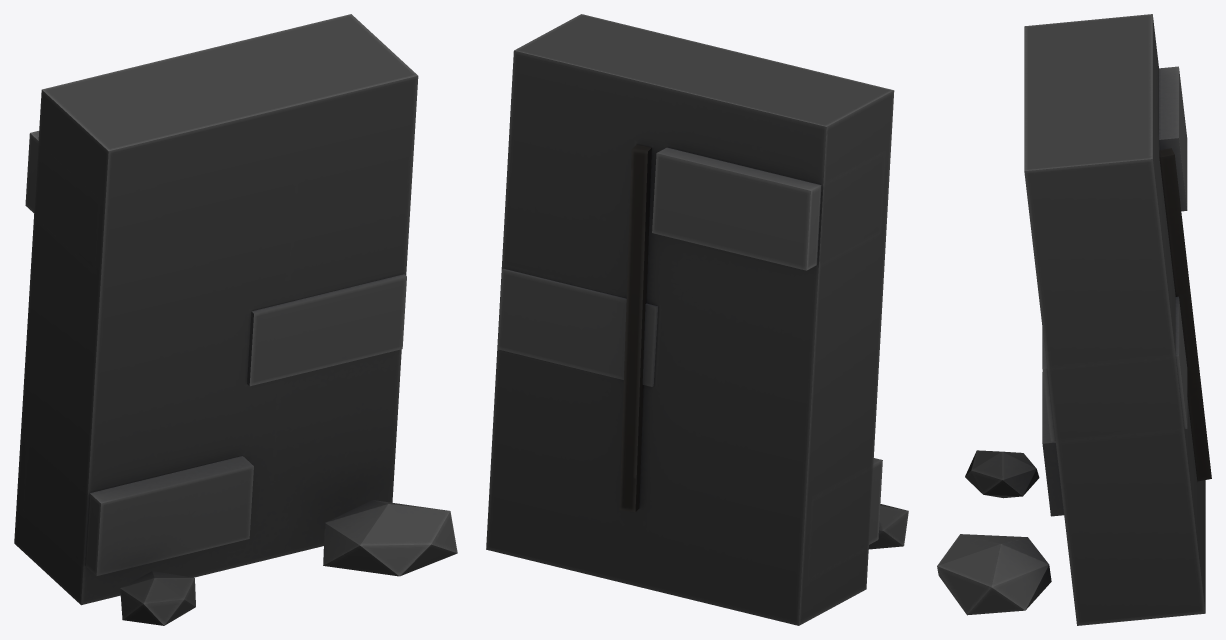
The model's file is obj_wall_cracked.glb.
The picture shows the model from 3 angles, left to right: view 1: azimuth 30°, elevation 25°; view 2: azimuth 150°, elevation 25°; view 3: azimuth 270°, elevation 25°; orthographic projection. The views are drawn at different scales.
Parts seen in each view (by area): view 1: obj_wall_cracked; view 2: obj_wall_cracked; view 3: obj_wall_cracked.
Boxes of the visible parts, x1=… form: obj_wall_cracked: x1=14, y1=14, x2=457, y2=625; obj_wall_cracked: x1=486, y1=14, x2=908, y2=625; obj_wall_cracked: x1=937, y1=14, x2=1211, y2=625.
Size of the model in its own units: 0.8915 by 1.28 by 0.6812.
1 material, 1 textured.
